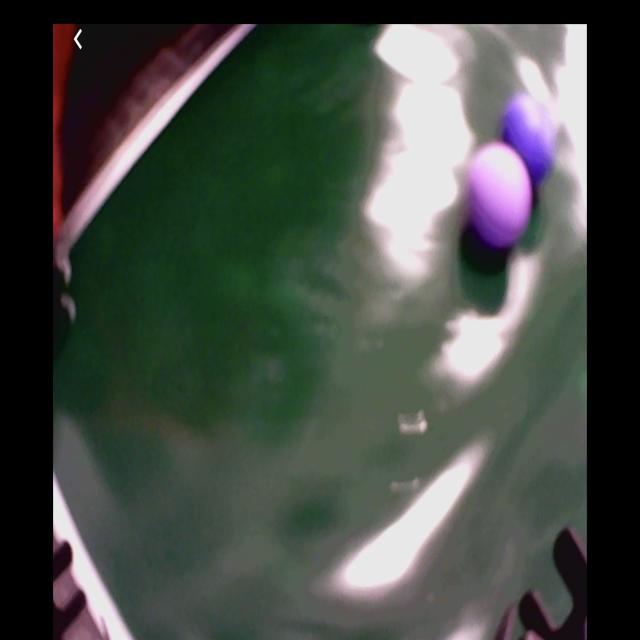ball: (469, 145, 535, 250), (503, 99, 556, 182)
